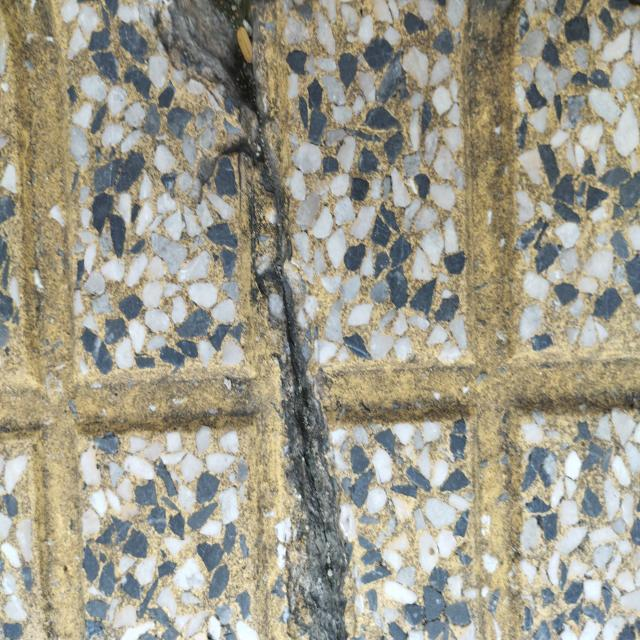vertical cracks: (211, 0, 350, 639)
